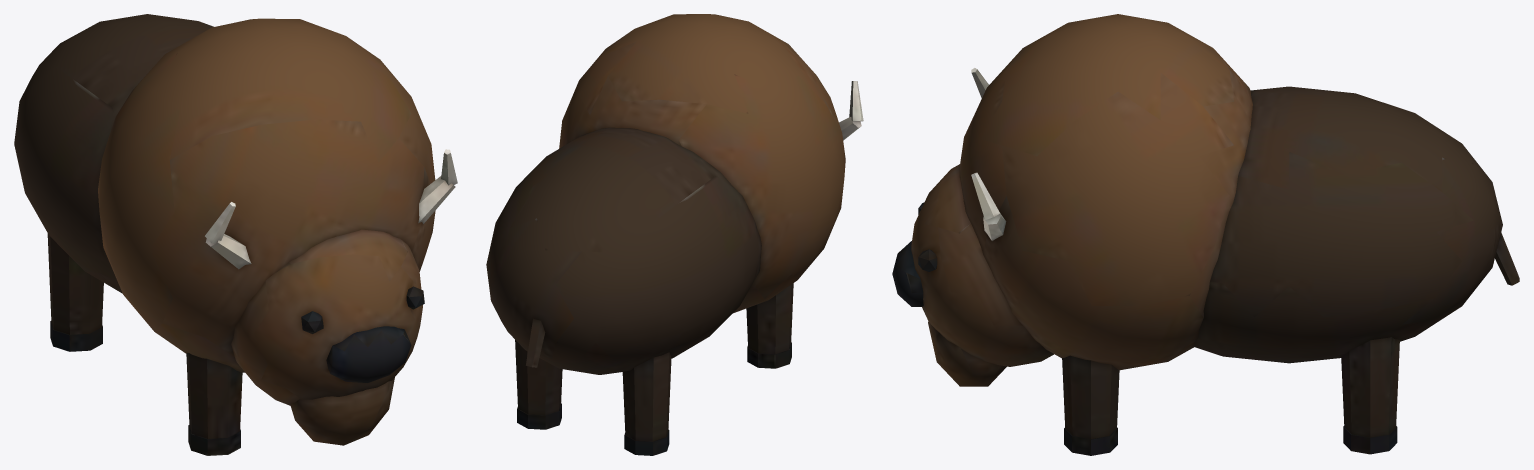
Rendered from bisonte.glb.
The picture shows the model from 3 angles, left to right: view 1: azimuth 30°, elevation 25°; view 2: azimuth 150°, elevation 25°; view 3: azimuth 270°, elevation 25°; orthographic projection. The views are drawn at different scales.
Parts seen in each view (by area): view 1: bisonte; view 2: bisonte; view 3: bisonte.
Part boxes in pixels (bbox=[...]): bisonte: bbox=[14, 14, 457, 455]; bisonte: bbox=[486, 14, 863, 455]; bisonte: bbox=[892, 14, 1519, 455].
Size of the model in its own units: 1.9 by 2.35 by 3.48.
Materials: 1 (1 with a texture image).
